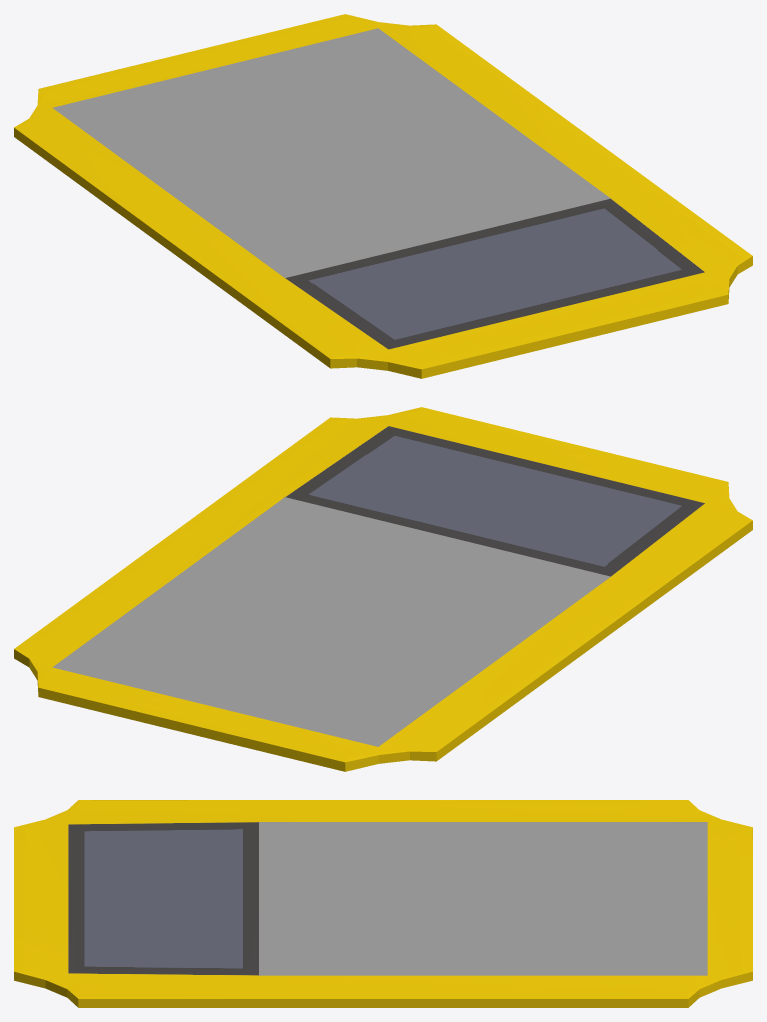
File: Card.obj
3 views of the same model, one above another, from view 1: azimuth 30°, elevation 25°; view 2: azimuth 150°, elevation 25°; view 3: azimuth 270°, elevation 25° (orthographic). The views are drawn at different scales.
Visible parts, largest first — view 1: base_Plane, img_Plane.001; view 2: base_Plane, img_Plane.001; view 3: base_Plane, img_Plane.001.
Part boxes in pixels (<box>): base_Plane: <box>14,14,752,378</box>; img_Plane.001: <box>52,28,610,277</box>; base_Plane: <box>14,407,752,771</box>; img_Plane.001: <box>52,497,610,746</box>; base_Plane: <box>14,800,752,1007</box>; img_Plane.001: <box>259,822,707,975</box>.
Size of the model in its own units: 2.56 by 0.0611 by 4.02.
